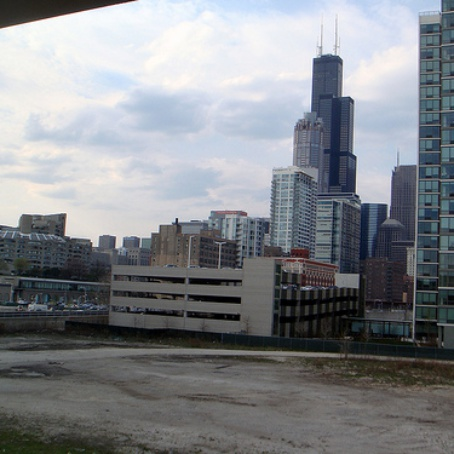building: (121, 252, 361, 341), (415, 1, 454, 344), (312, 58, 358, 186), (265, 157, 315, 251), (365, 215, 414, 304), (1, 220, 73, 278), (160, 225, 237, 274), (315, 190, 361, 266), (206, 211, 268, 263), (388, 163, 422, 242), (292, 112, 328, 167)
sky: (1, 6, 295, 210)
